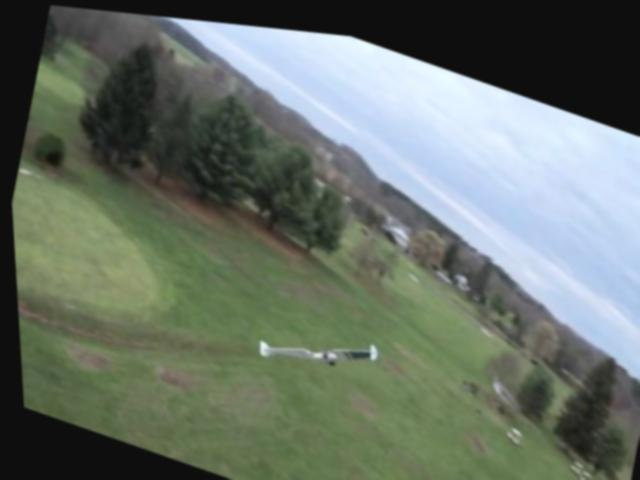flying wing: (247, 299, 380, 389)
